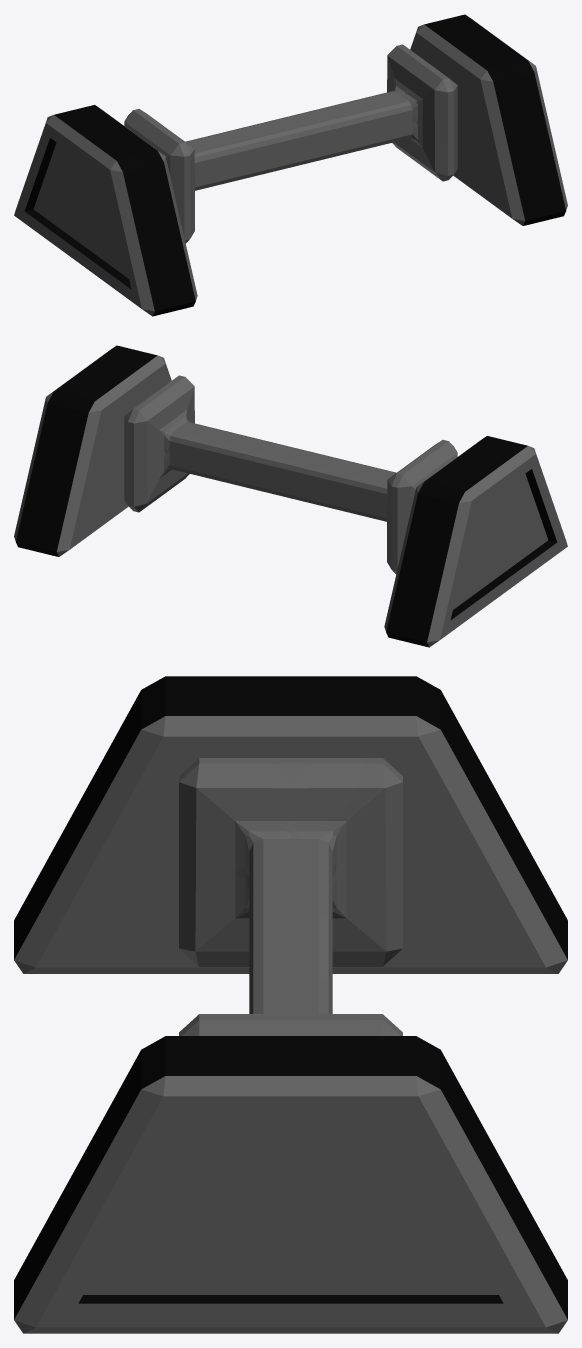
The model's file is robot-weels.obj.
The picture shows the model from 3 angles, top to bottom: view 1: azimuth 30°, elevation 25°; view 2: azimuth 150°, elevation 25°; view 3: azimuth 270°, elevation 25°; orthographic projection. The views are drawn at different scales.
Parts seen in each view (by area): view 1: Cube; view 2: Cube; view 3: Cube.
Part boxes in pixels (x1,y1,x2,y2): Cube: [14, 14, 567, 316]; Cube: [14, 345, 567, 647]; Cube: [14, 676, 567, 1333].
Size of the model in its own units: 3.78 by 1.1 by 2.14.
